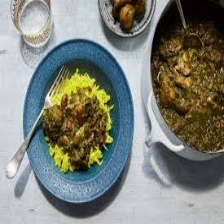sabzi: (41, 87, 109, 170)
